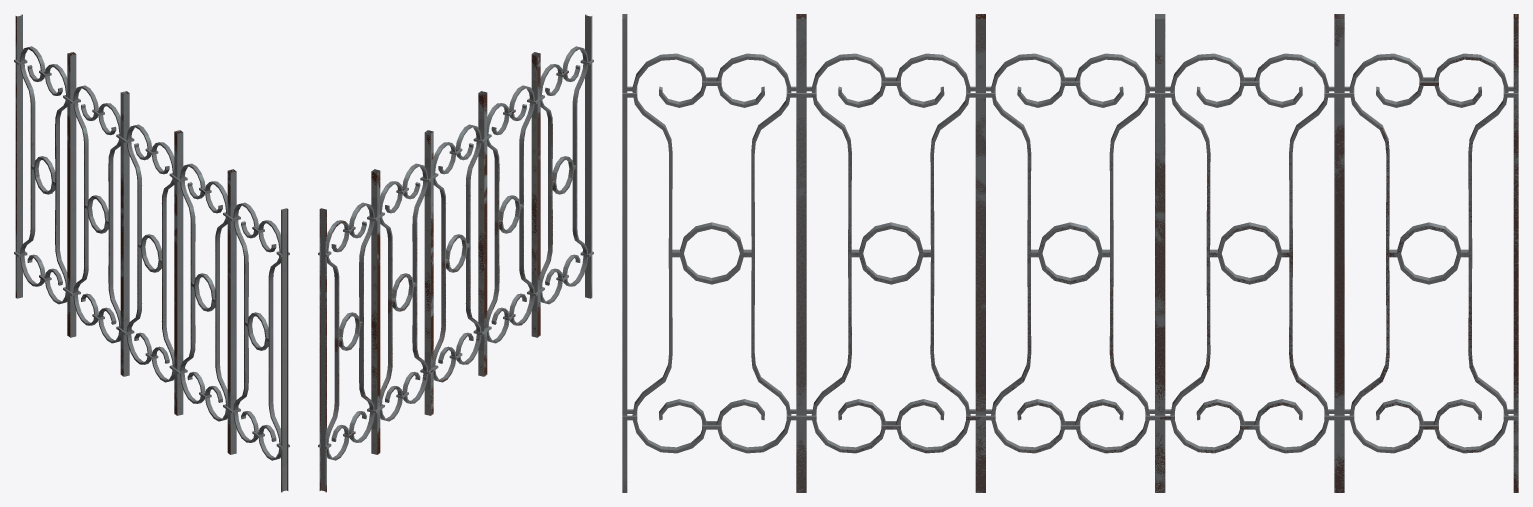
File: Fence_F1 (3).fbx
3 renders of one model, left to right at view 1: azimuth 30°, elevation 25°; view 2: azimuth 150°, elevation 25°; view 3: azimuth 270°, elevation 25°, orthographic. The views are drawn at different scales.
Visible parts, largest first — view 1: Fence_F1 (3); view 2: Fence_F1 (3); view 3: Fence_F1 (3).
Part boxes in pixels (x1,y1,x2,y2): Fence_F1 (3): [14, 14, 289, 492]; Fence_F1 (3): [318, 14, 593, 492]; Fence_F1 (3): [622, 14, 1518, 492].
Bounding box in the file's own units: 0.0408 × 2.12 × 1.24.
Materials: 1 (1 with a texture image).
